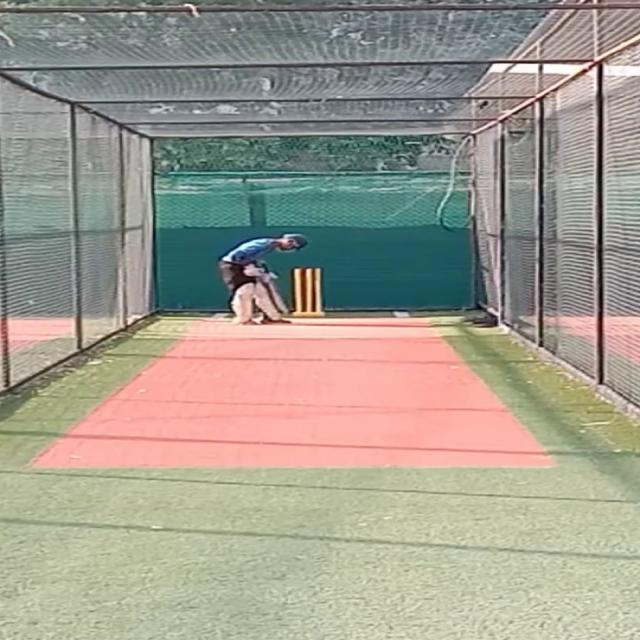stump: (292, 267, 327, 319)
